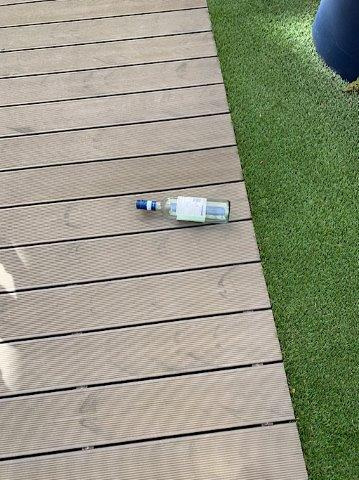botolkaca: (137, 194, 231, 224)
